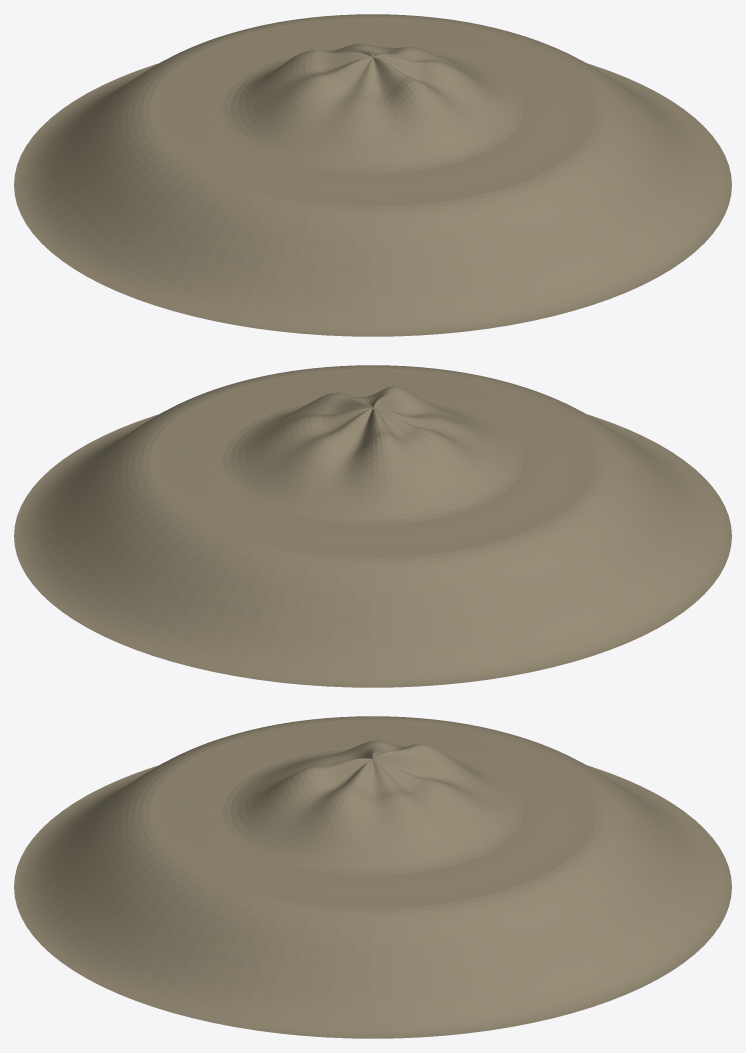
File: SM_Island.fbx
The picture shows the model from 3 angles, top to bottom: view 1: azimuth 30°, elevation 25°; view 2: azimuth 150°, elevation 25°; view 3: azimuth 270°, elevation 25°; orthographic projection.
Parts seen in each view (by area): view 1: SM_Island; view 2: SM_Island; view 3: SM_Island.
Part boxes in pixels (bbox=[...]): SM_Island: bbox=[14, 14, 731, 336]; SM_Island: bbox=[14, 365, 731, 687]; SM_Island: bbox=[14, 716, 731, 1038].
Size of the model in its own units: 52000 by 10396 by 52000.
